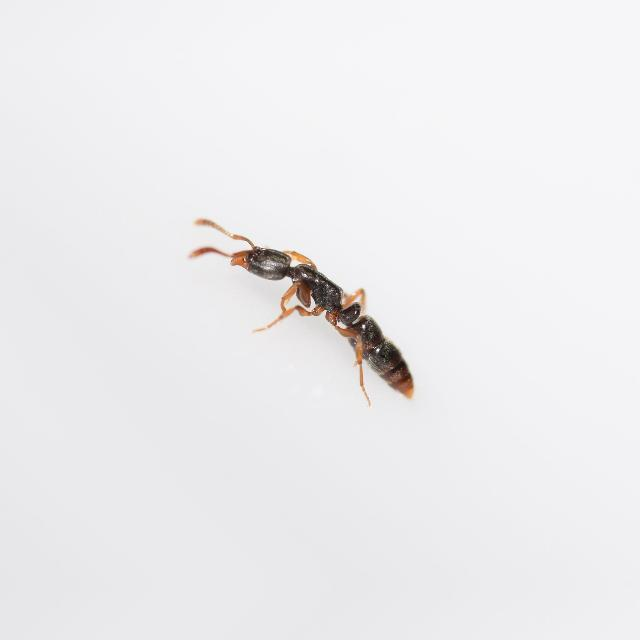Ponera: (198, 209, 422, 403)
